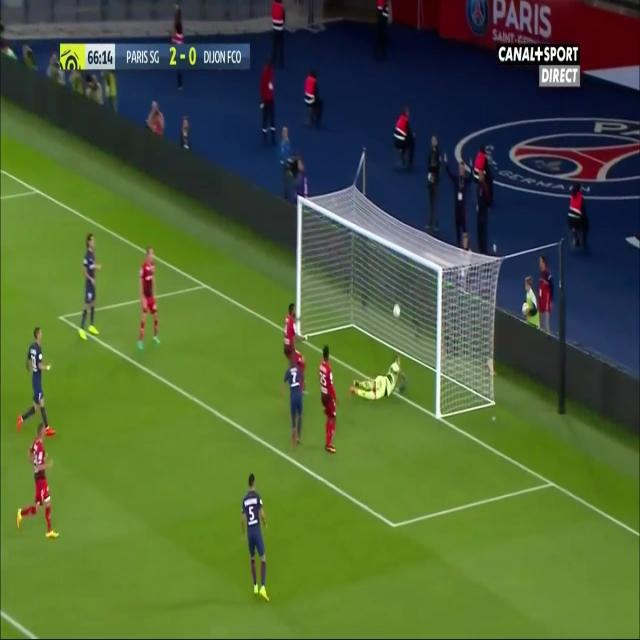Ball: (392, 301, 403, 323)
Goalkeeper: (348, 354, 410, 402)
Player: (15, 421, 60, 544), (15, 323, 59, 437), (240, 472, 272, 604), (134, 242, 163, 355), (77, 229, 103, 343), (317, 344, 339, 454), (281, 355, 307, 447), (283, 304, 305, 368)
